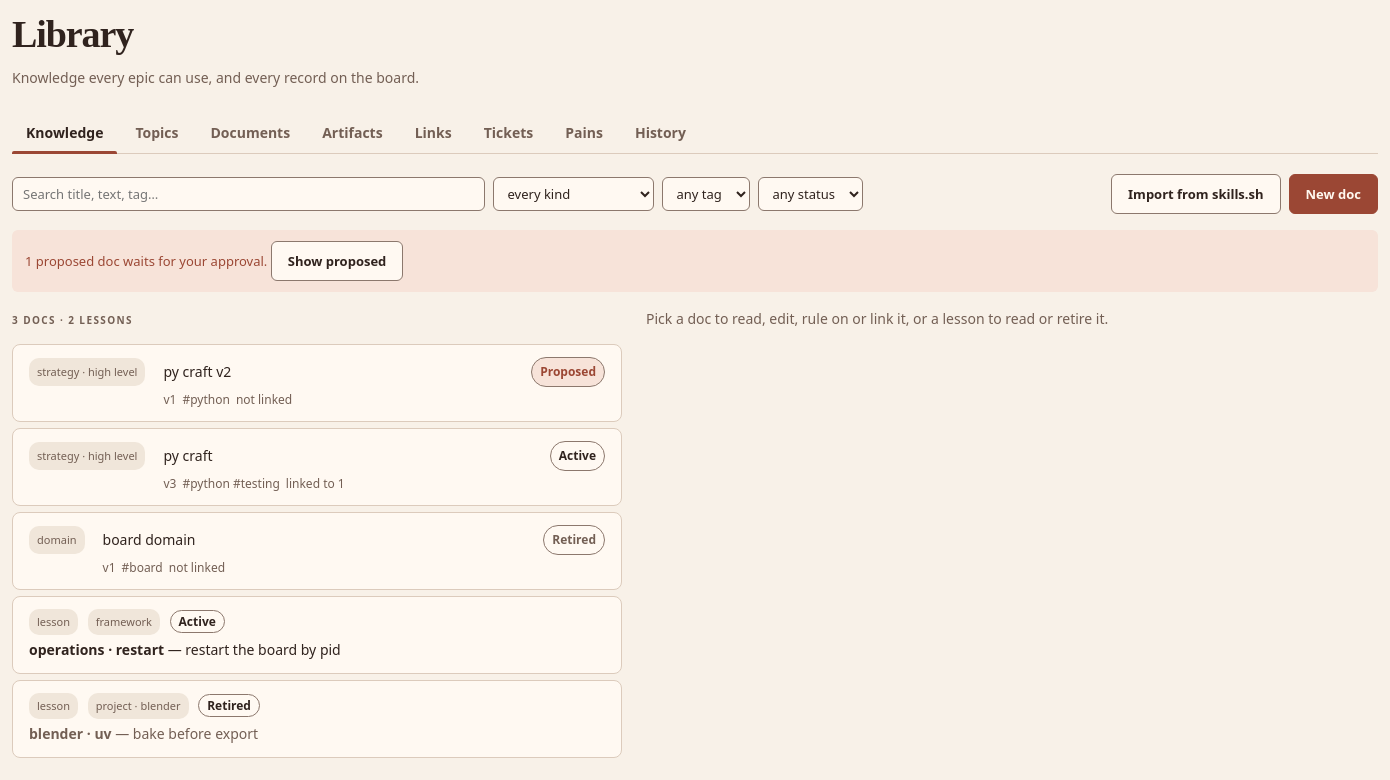
Test: Library knowledge › shows a lesson's scope in the list and lists a retired lesson under the Retired filter
The width and height of the screenshot is (1390, 780).
Check: the list with test id "knowledge-list" is shown, box [12,344,622,758]
Check: the elements with test id "lesson-scope-tag" read "framework", "project · blender", in this order, box [88,609,160,635]; [88,693,188,719]
Select "Retired" in the dropdown with test id "knowledge-status-filter" at (810, 194), box [758,177,862,211]
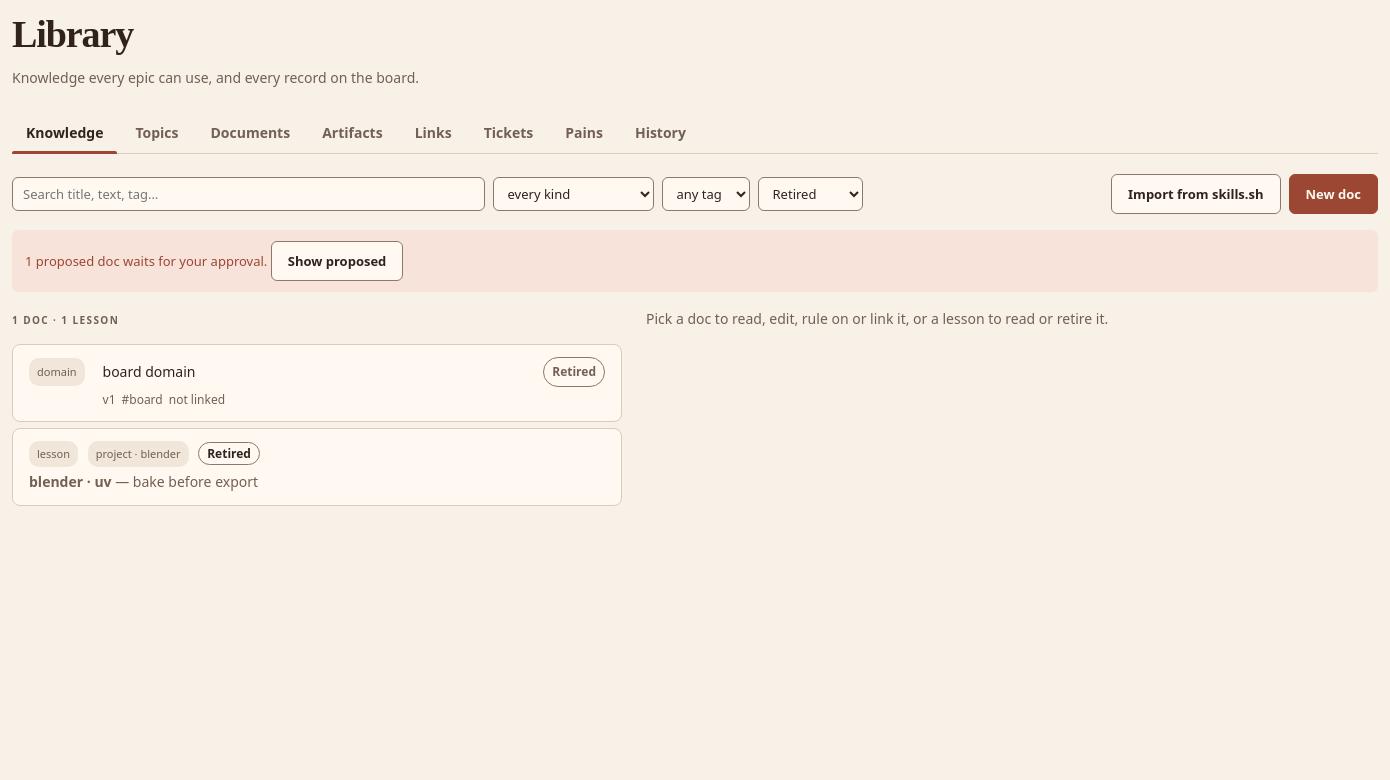
Check: the list item with test id "knowledge-lesson" shows "bake before export", box [29,441,605,493]
Check: the number of list items with test id "knowledge-lesson" is 1, box [12,428,622,506]
Select "Active" in the dropdown with test id "knowledge-status-filter" at (810, 194), box [758,177,862,211]
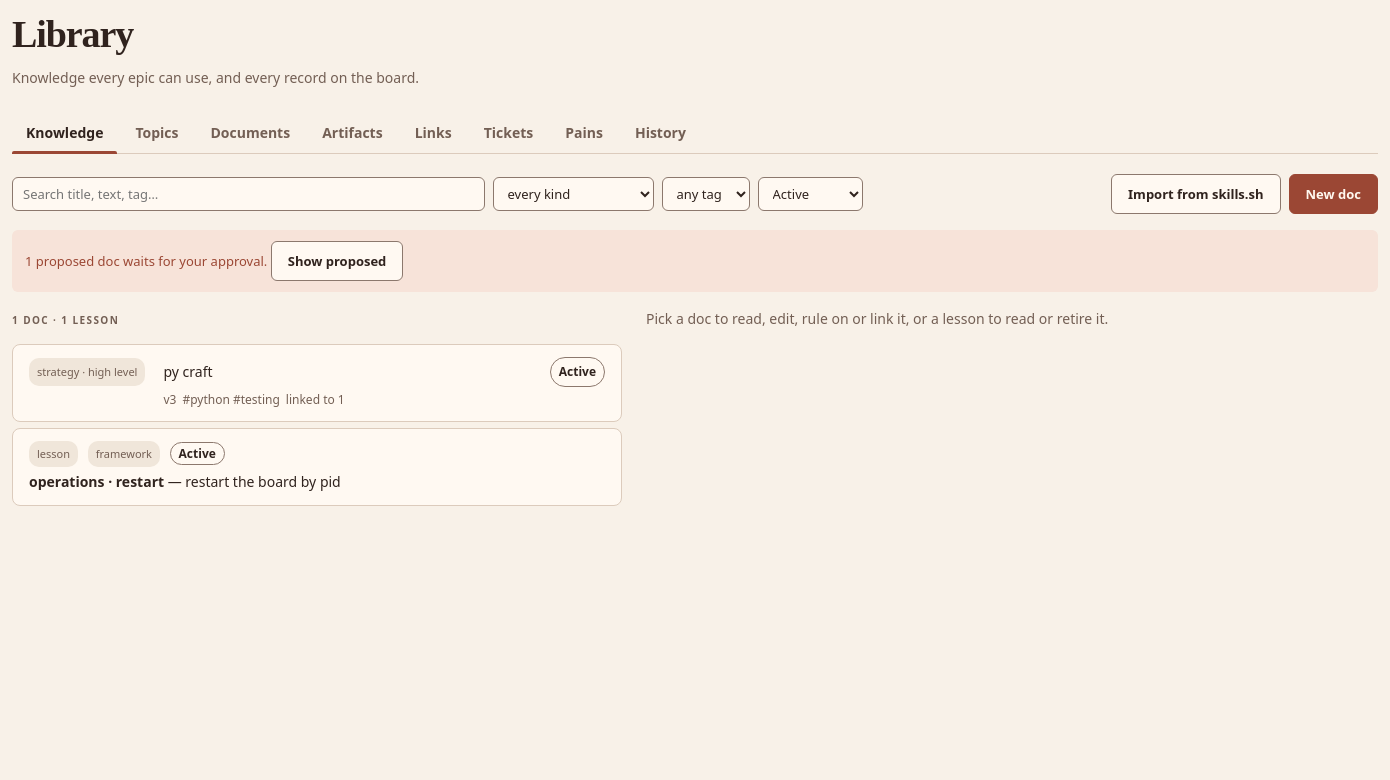
Check: the list item with test id "knowledge-lesson" shows "restart the board by pid", box [29,441,605,493]
